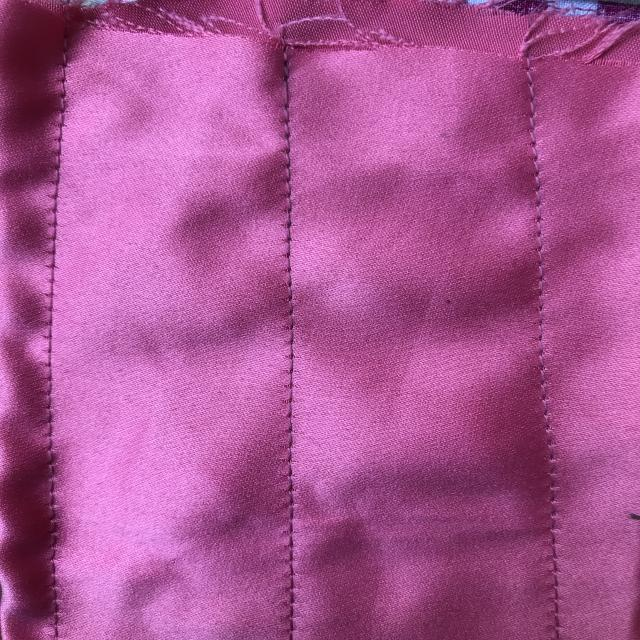good: (523, 224, 568, 454), (269, 131, 314, 307), (280, 372, 312, 550)
